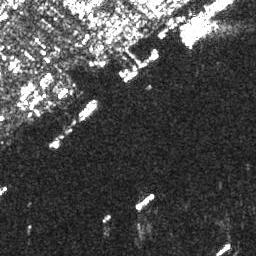ship: (135, 192, 155, 211), (78, 103, 98, 121), (213, 241, 233, 256), (122, 69, 139, 84), (101, 212, 111, 224)
